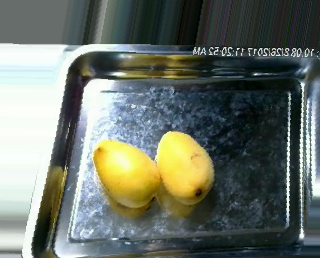Mango: (91, 138, 162, 210), (155, 129, 219, 205)
